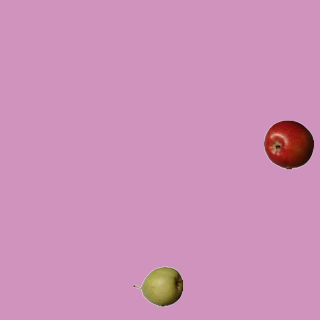Apple Braeburn: (263, 119, 313, 169)
Pear: (132, 261, 182, 311)
